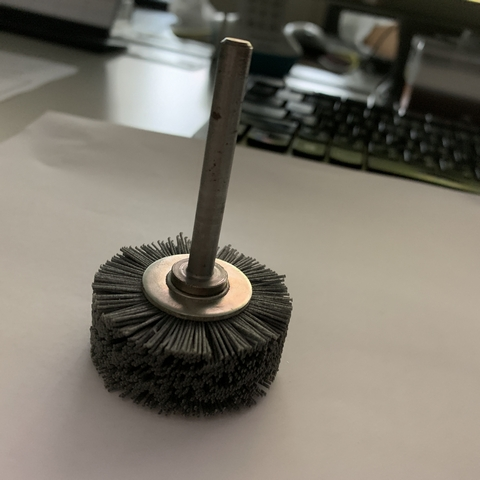Wheel Brush: (89, 38, 317, 398), (96, 29, 293, 435), (78, 118, 303, 422)
